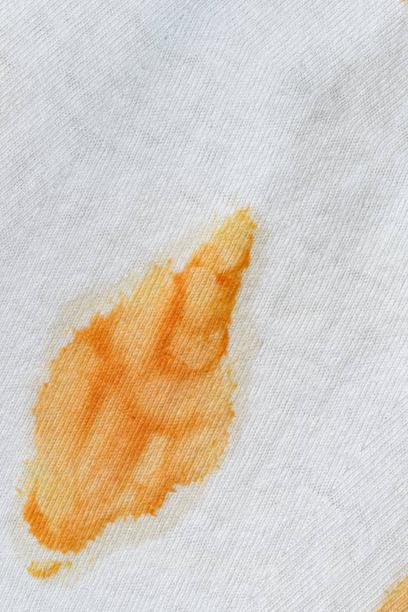stain: (22, 207, 258, 578)
